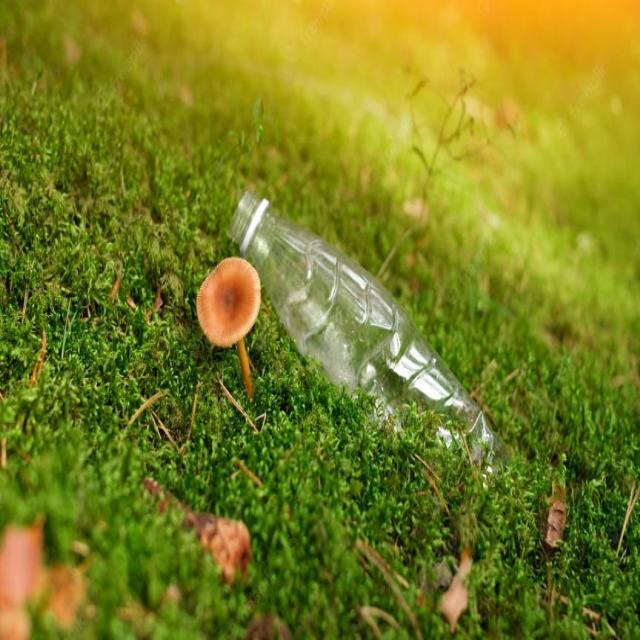bottle: (221, 167, 513, 503)
